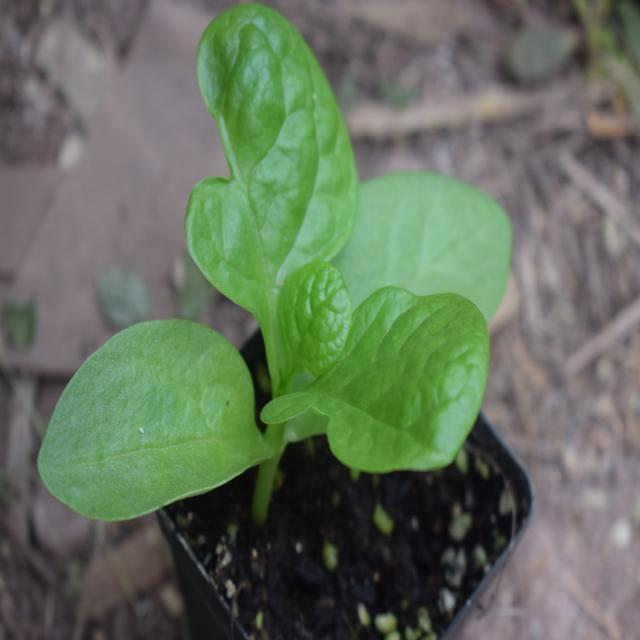Ceylon spinach: (60, 26, 509, 505)
